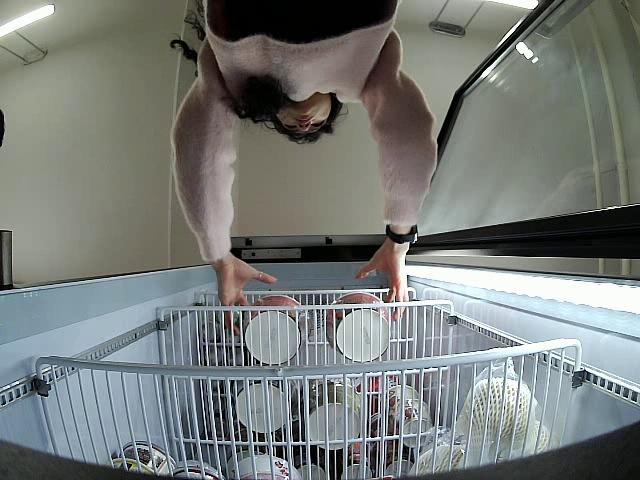00_hand: (216, 256, 279, 334), (354, 250, 408, 319)
01_shinRamen_L: (243, 293, 312, 366), (327, 292, 392, 361)
